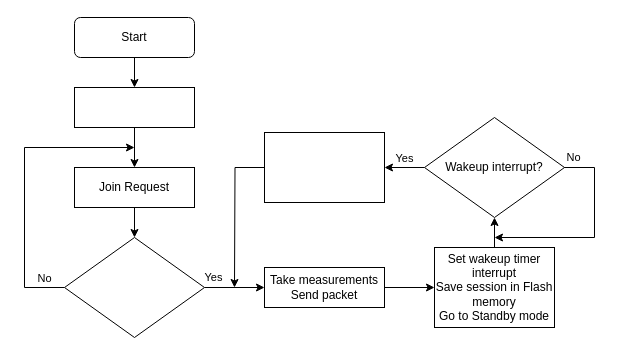
Image size: 620x355. Some labels were removed from this diagram. The centre of each missing label's shape, as x and y in pixels:
Gateway sent Join accept?: the point at 134,287
Initialization: the point at 134,107
Wake up from Standby mode Load session from Flash memory: the point at 324,167
